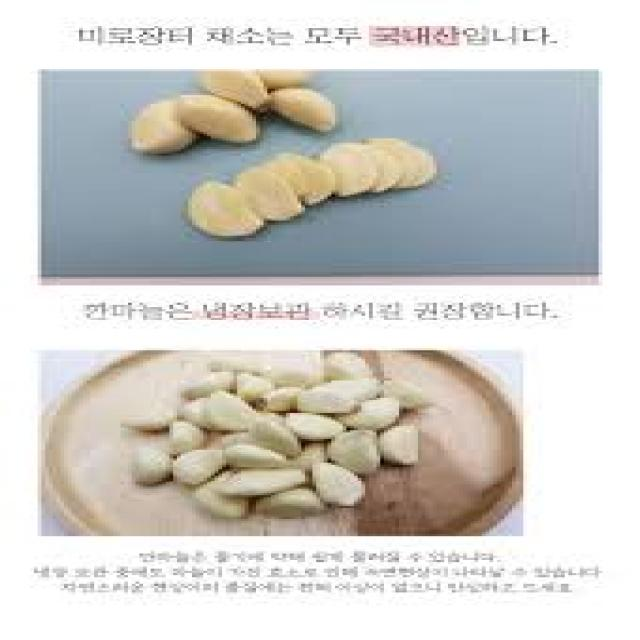Garlic bulb: (169, 378, 384, 493)
